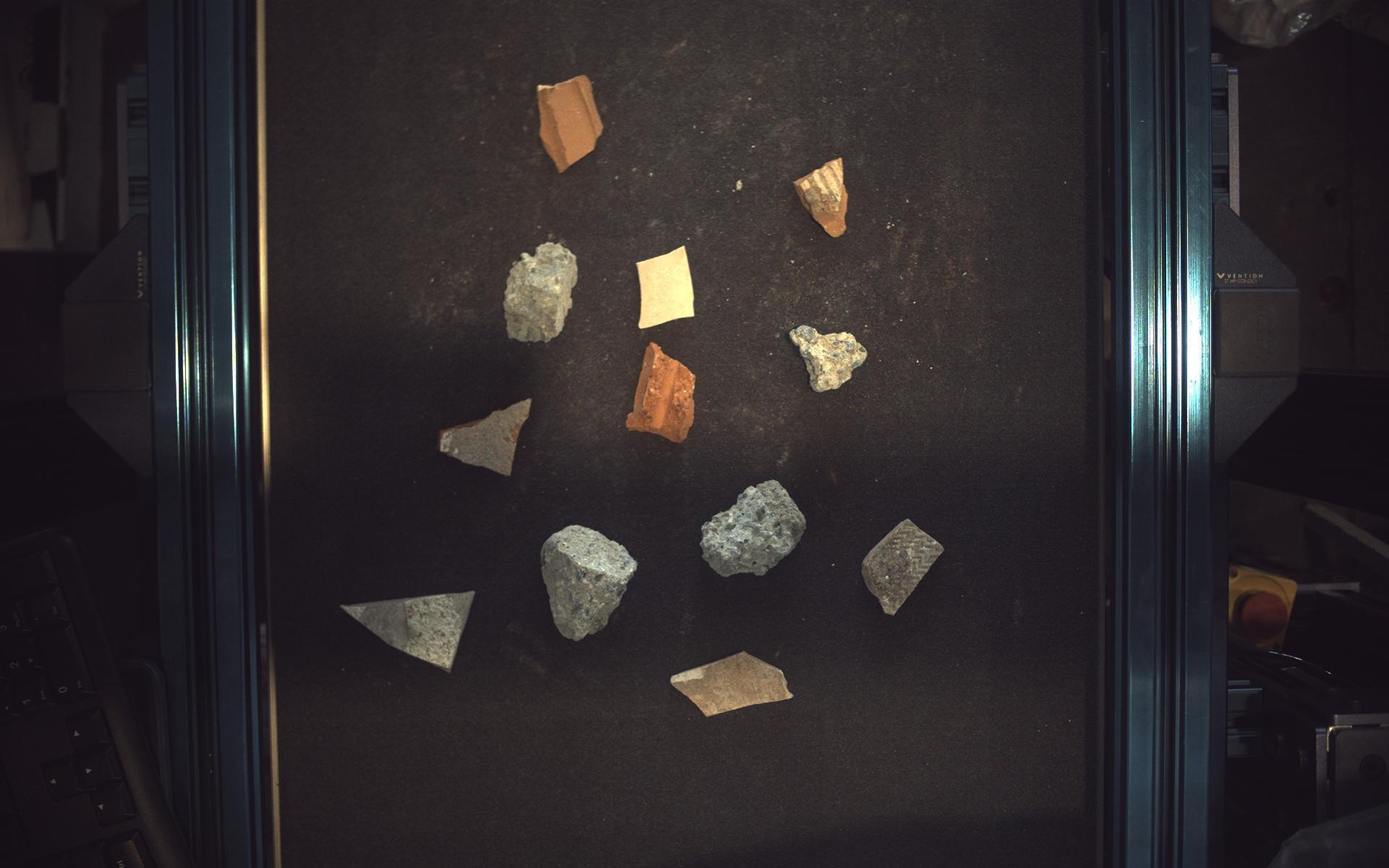brick: (438, 399, 532, 476), (627, 342, 697, 443), (538, 74, 604, 171), (796, 157, 849, 237)
concrete: (541, 526, 638, 642), (702, 480, 807, 577), (504, 242, 578, 342), (791, 326, 868, 392)
tile: (343, 592, 475, 673), (671, 653, 794, 718), (864, 519, 946, 616), (637, 246, 695, 328)
